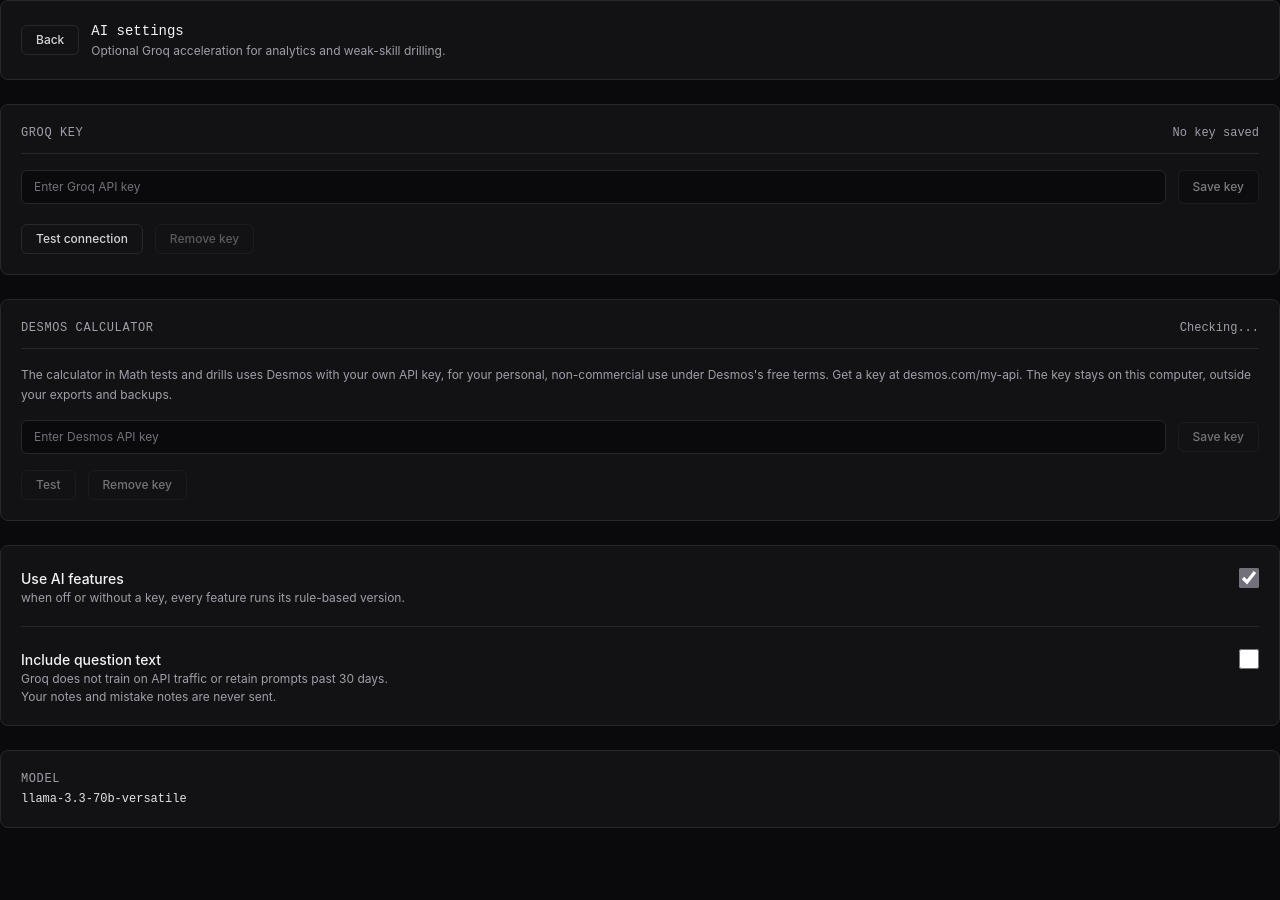
SettingsScreen › displays errors in a plain red line
This screenshot has width=1280, height=900.
Click the button "Test connection": (82, 239) [21,224,143,254]
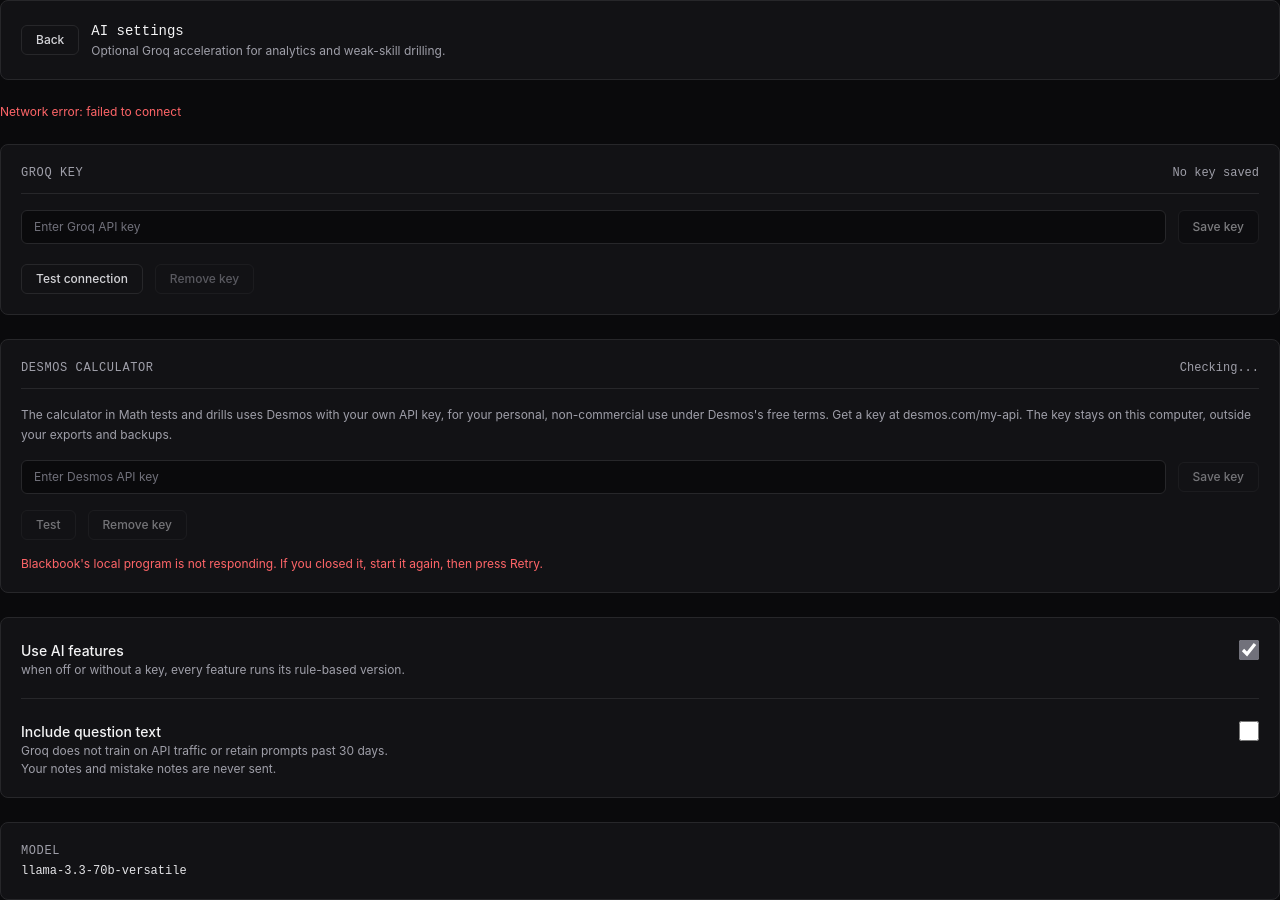
Result: the message "Network error: failed to connect" is shown at [0,104,181,119]
